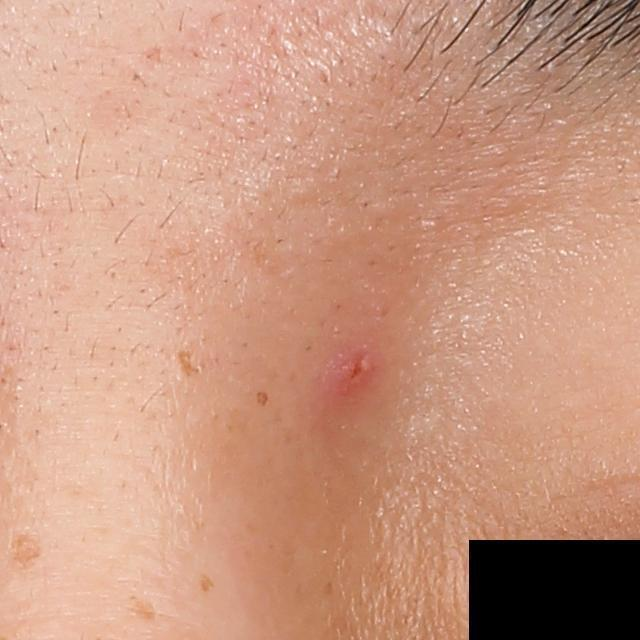atrophic_scar: (177, 350, 202, 377)
melasma: (8, 533, 39, 568), (130, 599, 159, 625)
papule: (333, 347, 382, 397)
